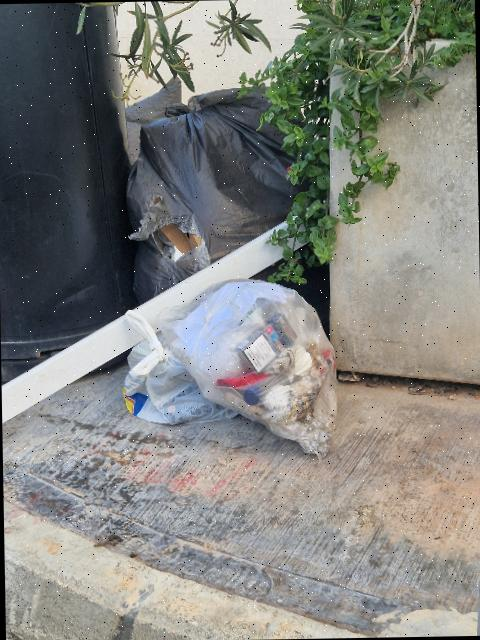Organic -White-: (123, 310, 238, 425)
Recyclable -Grey-: (126, 89, 298, 304), (159, 280, 337, 458)
